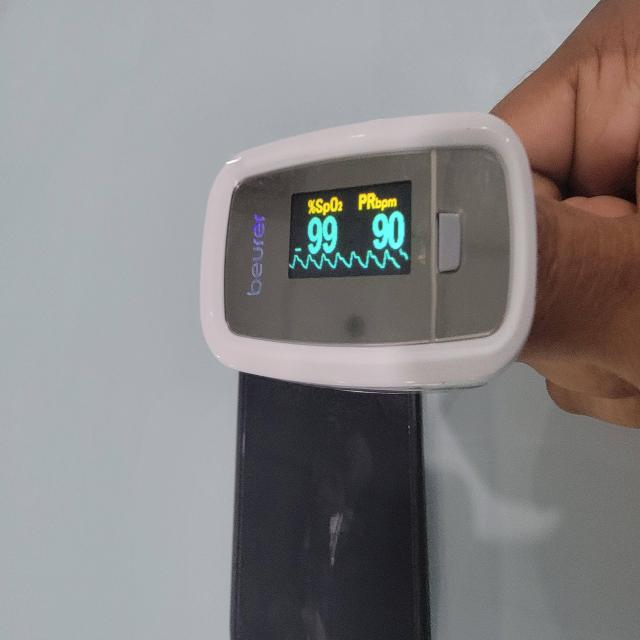spo2: (199, 113, 539, 394)
